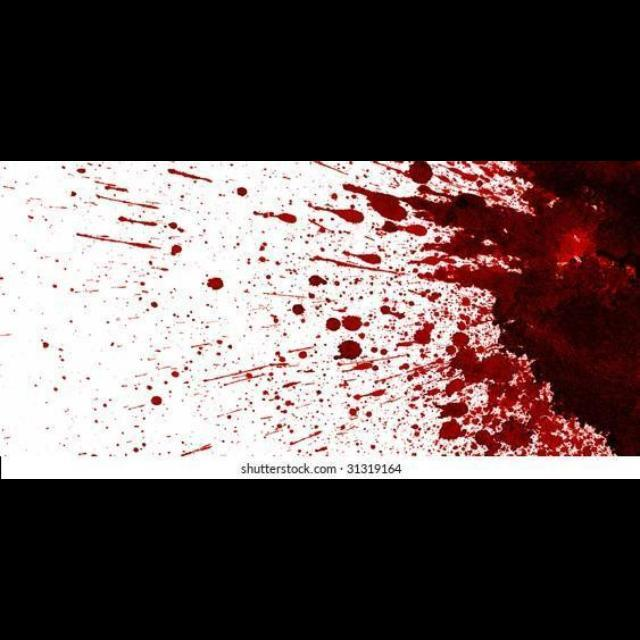blood: (24, 161, 640, 458)
